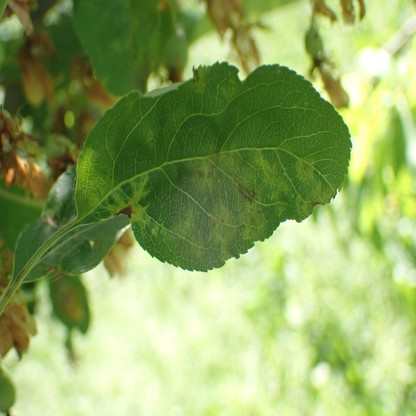scab: (110, 176, 162, 234), (219, 149, 261, 203), (125, 31, 156, 93), (174, 209, 202, 257), (298, 183, 333, 219), (258, 159, 288, 199), (212, 204, 235, 256), (237, 203, 266, 237), (195, 161, 213, 193), (295, 155, 313, 181), (188, 67, 204, 96)
